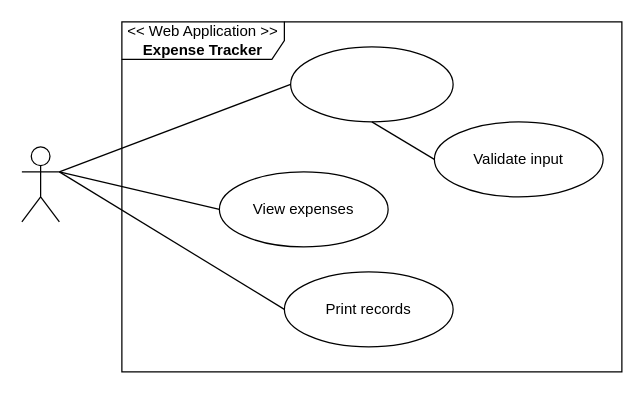
The diagram is 644 pixels wide and 394 high, and some of its shapes have lost their labels. Each missing label, with the centre of its shape:
"Enter expense details" goes at (371,84).
"User" goes at (40,184).
